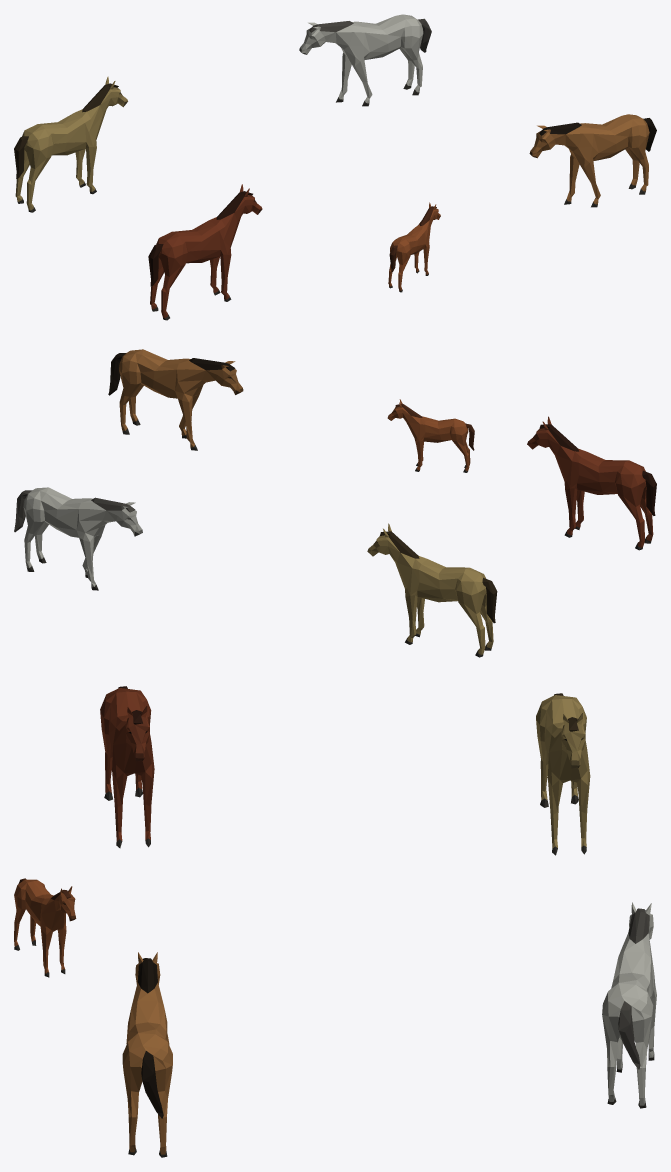
The model's file is horses1.glb.
The picture shows the model from 3 angles, top to bottom: view 1: azimuth 30°, elevation 25°; view 2: azimuth 150°, elevation 25°; view 3: azimuth 270°, elevation 25°; orthographic projection. The views are drawn at different scales.
Parts seen in each view (by area): view 1: horses1; view 2: horses1; view 3: horses1.
Part boxes in pixels (box(x1,y1,x2,y2)): horses1: box(14, 14, 656, 320); horses1: box(14, 349, 656, 657); horses1: box(14, 686, 656, 1157).
Bounding box in the file's own units: 53.61 × 10.41 × 38.37.
